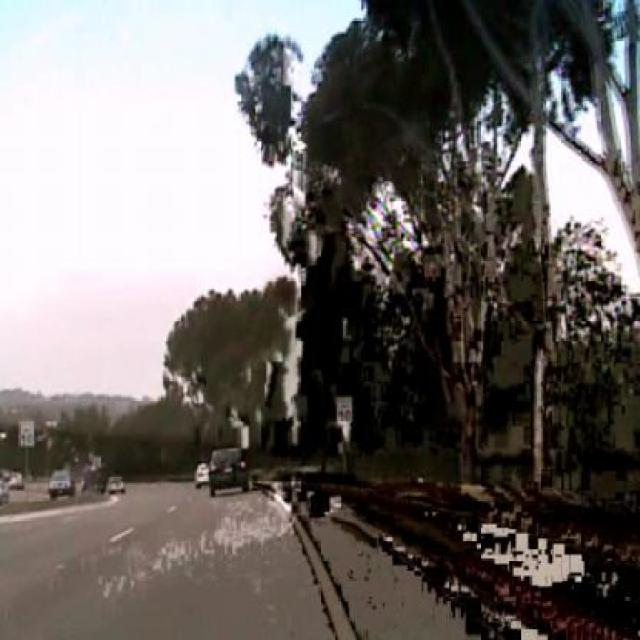speedLimitUrdbl: (18, 417, 36, 449)
